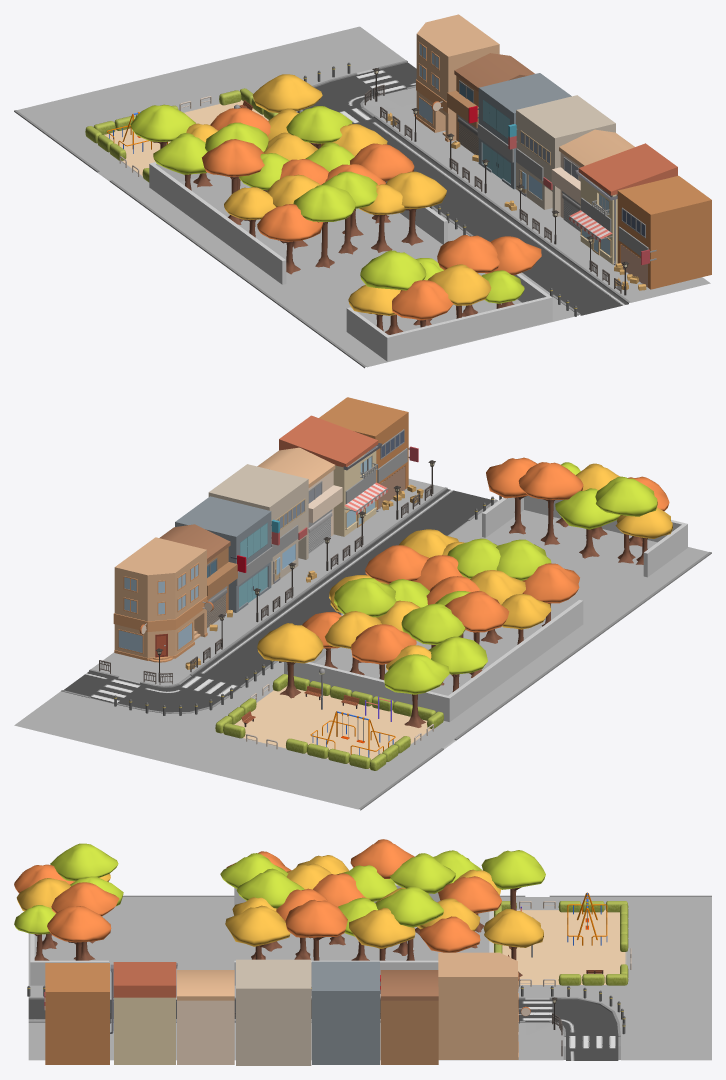
File: doggo_Park_Grp.fbx
The picture shows the model from 3 angles, top to bottom: view 1: azimuth 30°, elevation 25°; view 2: azimuth 150°, elevation 25°; view 3: azimuth 270°, elevation 25°; orthographic projection. The views are drawn at different scales.
Visible parts, largest first — view 1: doggo_Park_ground, doggo_Park_trees, doggo_Park_wall, doggo_Park_Street_shop_B_main, doggo_Park_Street_shop_D_main, doggo_Park_Street_corner, doggo_Park_Street_cafe_B_main, doggo_Park_Street_shop_E_main, doggo_Park_Street_shop_F_main, doggo_Park_Street_shop_C_main, doggo_Park_grass, doggo_Park_fence_A (+1 smaller); view 2: doggo_Park_ground, doggo_Park_trees, doggo_Park_Street_corner, doggo_Park_wall, doggo_Park_Street_cafe_B_main, doggo_Park_Street_shop_D_main, doggo_Park_Street_shop_E_main, doggo_Park_grass, doggo_Park_Street_shop_B_main, doggo_Park_Street_shop_C_main, doggo_Park_Street_shop_F_main, doggo_Park_fence_A (+2 smaller); view 3: doggo_Park_ground, doggo_Park_trees, doggo_Park_Street_corner, doggo_Park_Street_shop_D_main, doggo_Park_Street_shop_E_main, doggo_Park_Street_shop_B_main, doggo_Park_Street_cafe_B_main, doggo_Park_Street_shop_F_main, doggo_Park_Street_shop_C_main, doggo_Park_grass, doggo_Park_wall, doggo_Park_playground_A (+1 smaller).
Part boxes in pixels (x1,y1,x2,y2): doggo_Park_ground: (14, 26, 710, 368); doggo_Park_trees: (131, 74, 541, 334); doggo_Park_wall: (149, 162, 552, 361); doggo_Park_Street_shop_B_main: (617, 175, 711, 289); doggo_Park_Street_shop_D_main: (508, 95, 615, 217); doggo_Park_Street_corner: (414, 14, 499, 141); doggo_Park_Street_cafe_B_main: (568, 143, 677, 265); doggo_Park_Street_shop_E_main: (468, 73, 571, 189); doggo_Park_Street_shop_F_main: (447, 53, 534, 155); doggo_Park_Street_shop_C_main: (551, 129, 634, 231); doggo_Park_grass: (85, 88, 278, 182); doggo_Park_fence_A: (364, 84, 621, 293); doggo_Park_ground: (14, 479, 711, 810); doggo_Park_trees: (257, 457, 672, 727); doggo_Park_Street_corner: (113, 537, 213, 662); doggo_Park_wall: (284, 495, 687, 721); doggo_Park_Street_cafe_B_main: (279, 415, 388, 536); doggo_Park_Street_shop_D_main: (208, 464, 308, 585); doggo_Park_Street_shop_E_main: (175, 496, 271, 612); doggo_Park_grass: (215, 674, 443, 770); doggo_Park_Street_shop_B_main: (319, 397, 418, 509); doggo_Park_Street_shop_C_main: (257, 447, 342, 553); doggo_Park_Street_shop_F_main: (159, 524, 237, 627); doggo_Park_fence_A: (99, 485, 432, 684); doggo_Park_ground: (28, 895, 711, 1060); doggo_Park_trees: (14, 839, 545, 980); doggo_Park_Street_corner: (438, 952, 530, 1059); doggo_Park_Street_shop_D_main: (236, 959, 311, 1065); doggo_Park_Street_shop_E_main: (312, 961, 380, 1064); doggo_Park_Street_shop_B_main: (44, 963, 109, 1064); doggo_Park_Street_cafe_B_main: (110, 962, 177, 1064); doggo_Park_Street_shop_F_main: (380, 970, 438, 1064); doggo_Park_Street_shop_C_main: (177, 970, 234, 1064); doggo_Park_grass: (494, 901, 628, 985); doggo_Park_wall: (30, 884, 493, 985); doggo_Park_playground_A: (567, 892, 607, 945).
Bounding box in the file's own units: 32.06 × 7.38 × 55.7.
